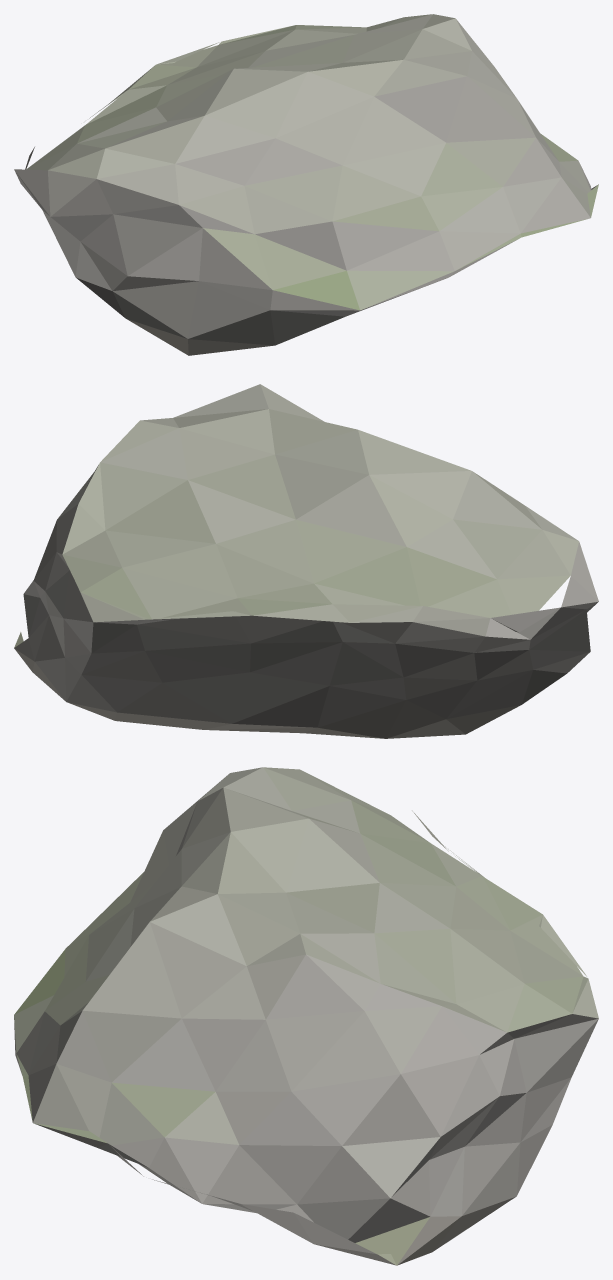
The picture shows the model from 3 angles, top to bottom: view 1: azimuth 30°, elevation 25°; view 2: azimuth 150°, elevation 25°; view 3: azimuth 270°, elevation 25°; orthographic projection. The views are drawn at different scales.
Visible parts, largest first — view 1: pedra_lowpoly_b; view 2: pedra_lowpoly_b; view 3: pedra_lowpoly_b.
Boxes of the visible parts, x1,y1,x2,y2 form: pedra_lowpoly_b: [14, 14, 598, 355]; pedra_lowpoly_b: [14, 384, 598, 738]; pedra_lowpoly_b: [14, 767, 598, 1265].
Bounding box in the file's own units: 1.95 × 0.8734 × 1.57.
